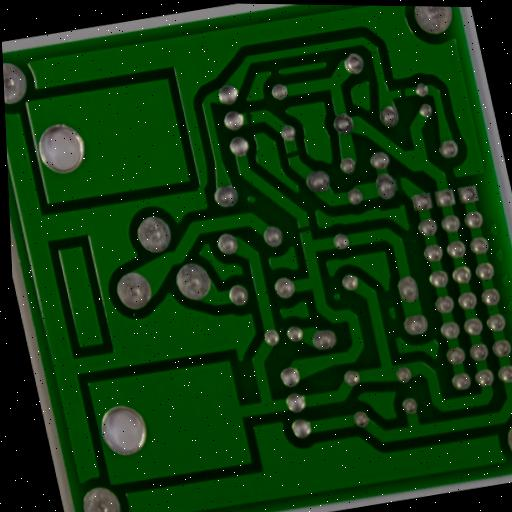open_circuit: (290, 218, 316, 239), (279, 145, 304, 164), (391, 81, 410, 104), (391, 171, 408, 194), (240, 106, 256, 128)
